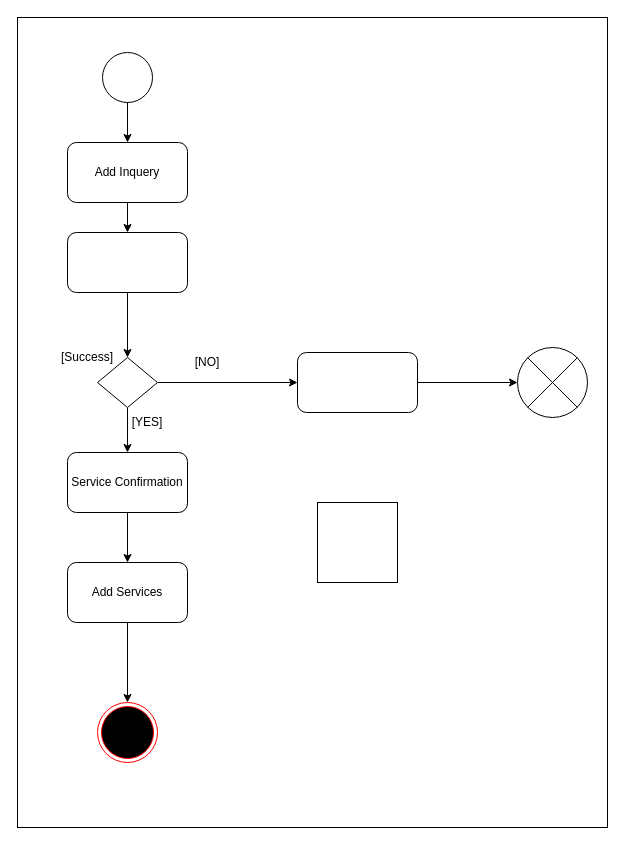
The diagram is 625 pixels wide and 845 high, and some of its shapes have lost their labels. Each missing label, with the centre of its shape:
Remove From Lead: (x=357, y=382)
Update Inquery: (x=127, y=262)
